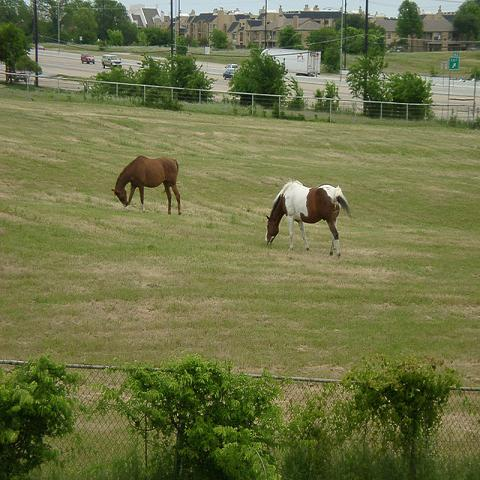car: (100, 54, 122, 68), (80, 53, 94, 64), (224, 63, 238, 73), (222, 69, 234, 80)
truck: (259, 47, 321, 76)
